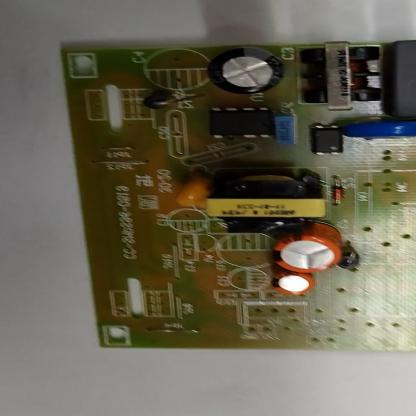Cap1: (273, 224, 344, 273)
Cap2: (272, 272, 316, 296)
Cap3: (211, 46, 281, 95)
MOSFET: (213, 107, 273, 139)
Mov: (344, 121, 415, 137)
Transformer: (209, 168, 326, 234), (308, 40, 384, 110)
